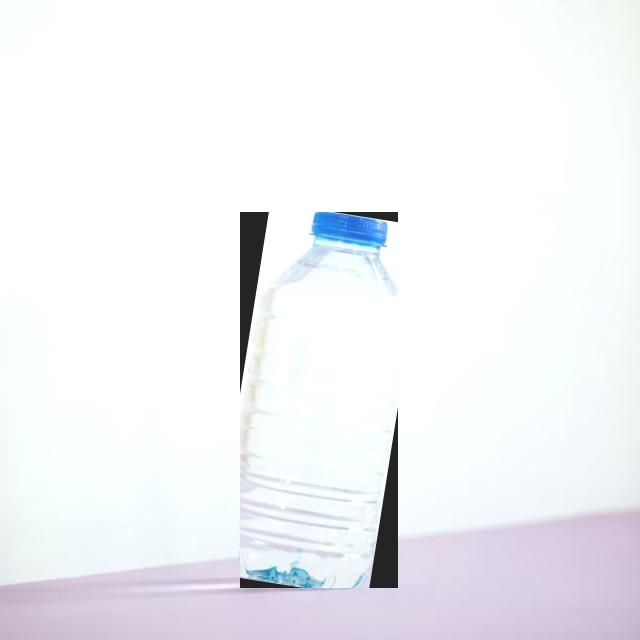Bottle: (240, 213, 396, 587)
